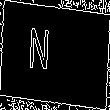N_S: (44, 28, 66, 82)
